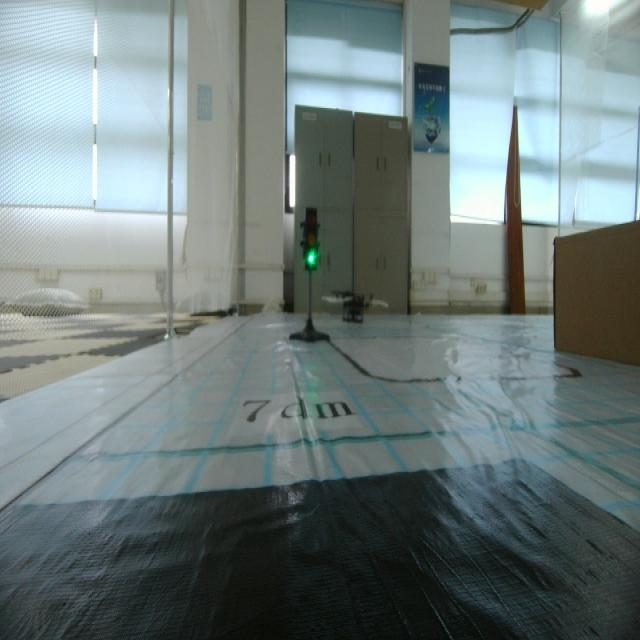green: (298, 200, 324, 273)
